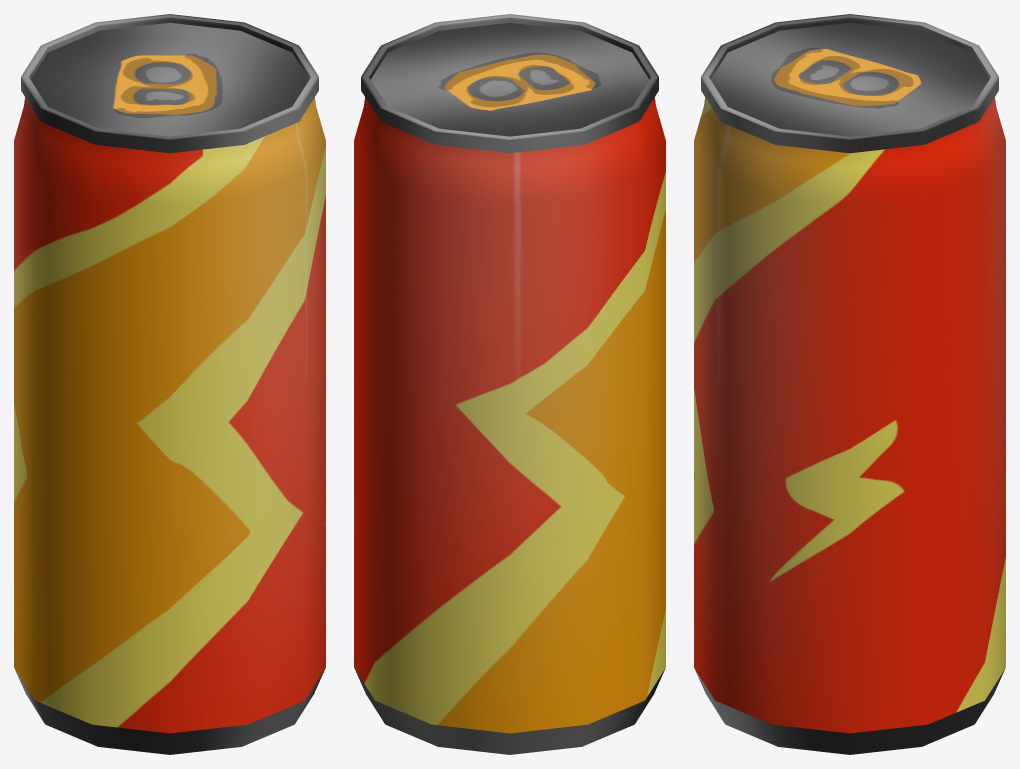
Rendered from MD_Enadori.fbx.
3 views of the same model, side by side, from view 1: azimuth 30°, elevation 25°; view 2: azimuth 150°, elevation 25°; view 3: azimuth 270°, elevation 25° (orthographic).
Visible parts, largest first — view 1: MD_Enadori; view 2: MD_Enadori; view 3: MD_Enadori.
Boxes of the visible parts, bbox=[...] form: MD_Enadori: bbox=[14, 14, 325, 754]; MD_Enadori: bbox=[354, 14, 665, 754]; MD_Enadori: bbox=[694, 14, 1005, 754].
Size of the model in its own units: 16 by 34.94 by 16.
